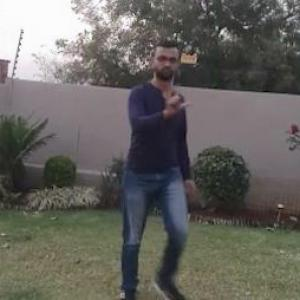land_hand: (160, 77, 193, 118)
